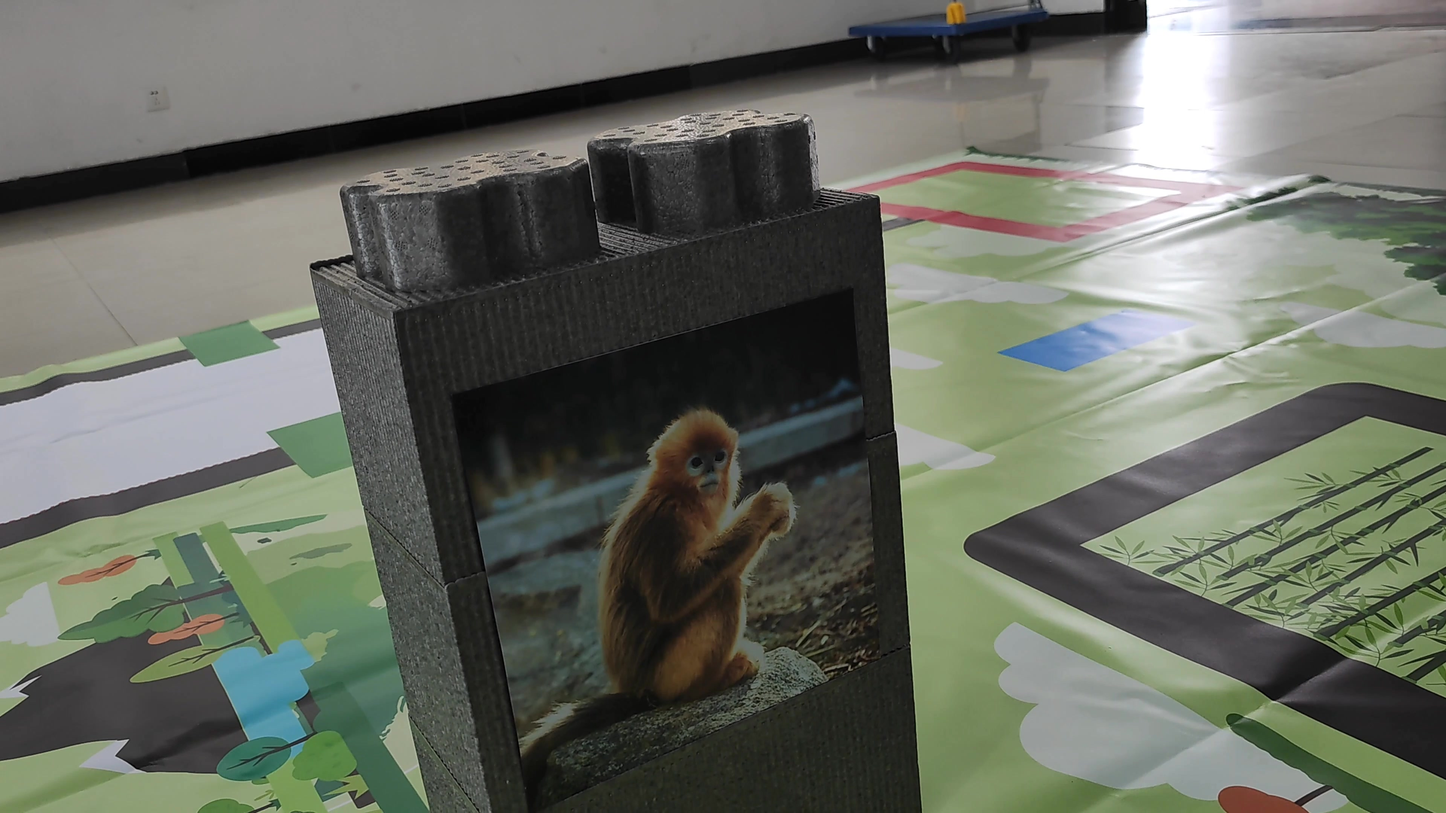monkey: (506, 396, 813, 775)
